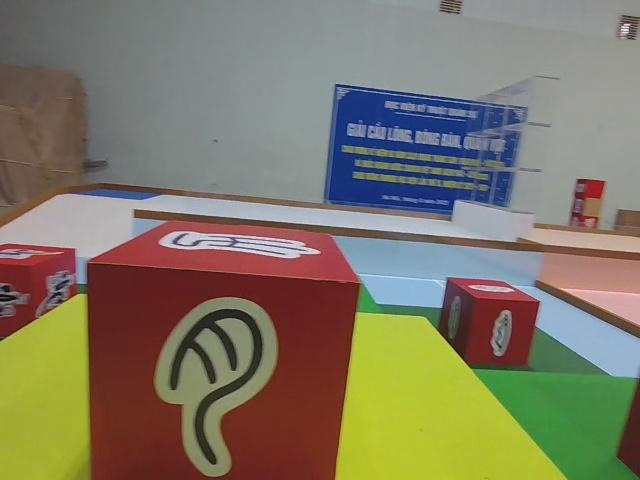R1: (0, 242, 80, 342)
R2 Fake: (84, 217, 361, 480)
R2 Real: (437, 275, 542, 369)
